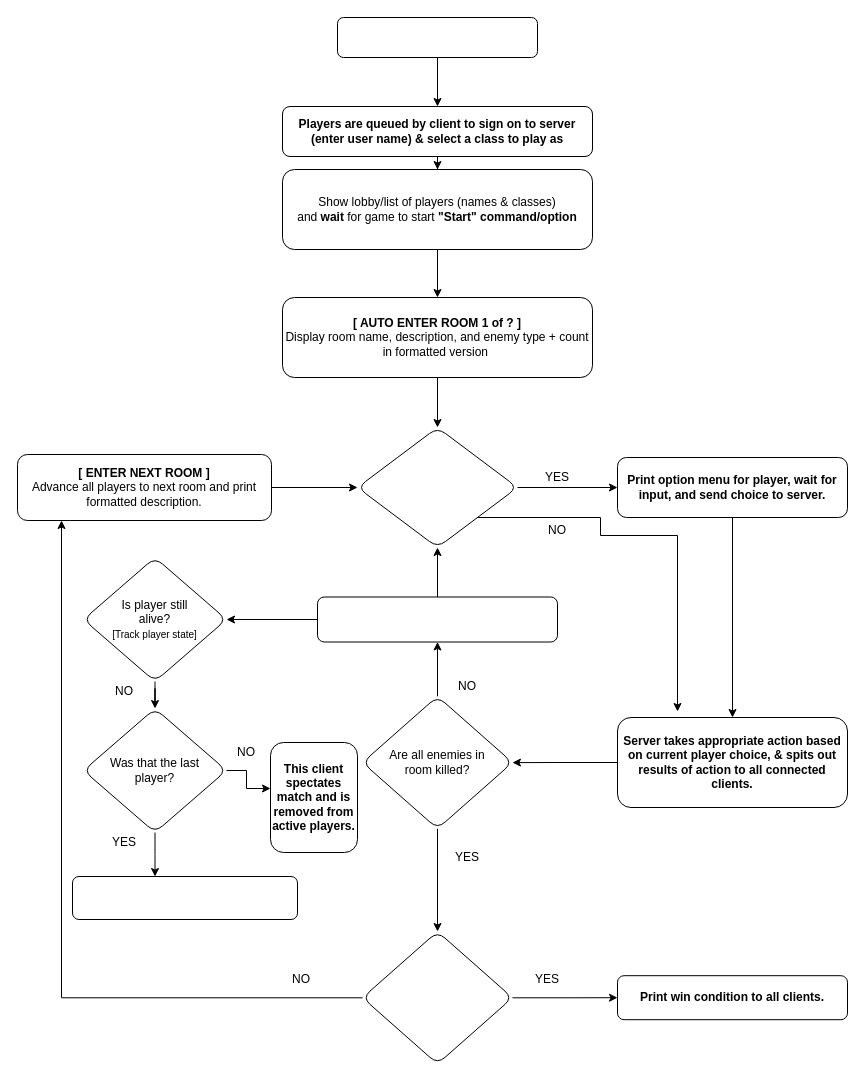
Some shapes in this 865 by 1082 pixel diagram are drawn without their labels. Each missing label, with the centre of its shape:
"Client Start" belongs at (437,37).
"Is it this clients turn?" belongs at (437,487).
"Print loss condition to all clients." belongs at (185,898).
"Server attacks current player." belongs at (437,619).
"Was this the final room?" belongs at (437,997).
